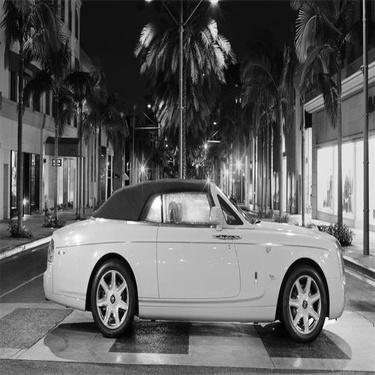car: (40, 176, 350, 346)
